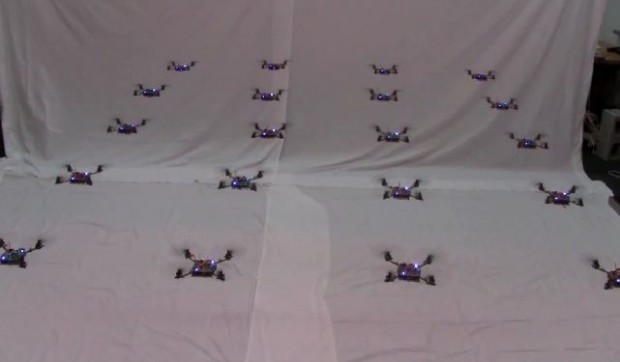drone: (166, 242, 249, 285), (378, 246, 444, 292), (529, 178, 589, 212), (48, 163, 115, 193), (1, 234, 51, 273), (580, 252, 620, 295), (377, 175, 432, 205), (216, 167, 272, 195), (102, 114, 157, 141), (369, 122, 420, 149), (505, 131, 553, 156), (248, 121, 294, 144), (131, 81, 171, 103), (465, 66, 506, 85), (256, 56, 295, 75), (483, 96, 524, 114), (365, 87, 406, 105), (248, 88, 291, 105), (164, 59, 201, 78), (365, 62, 408, 78)
